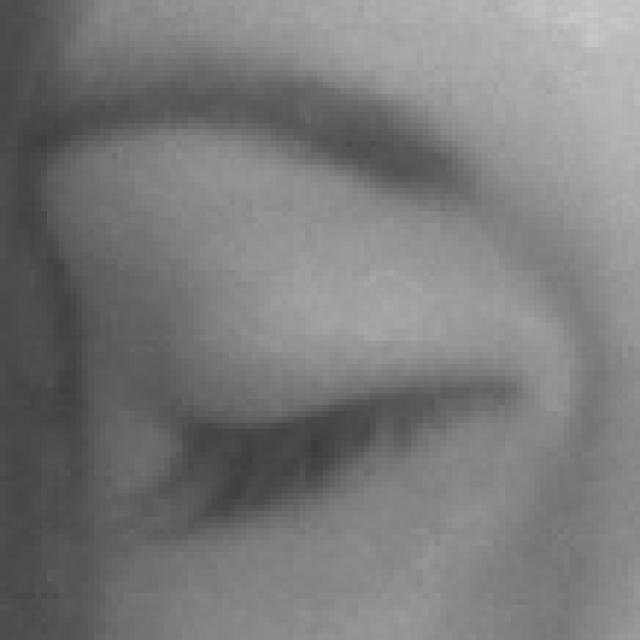Eyeclosed: (147, 235, 487, 640)
